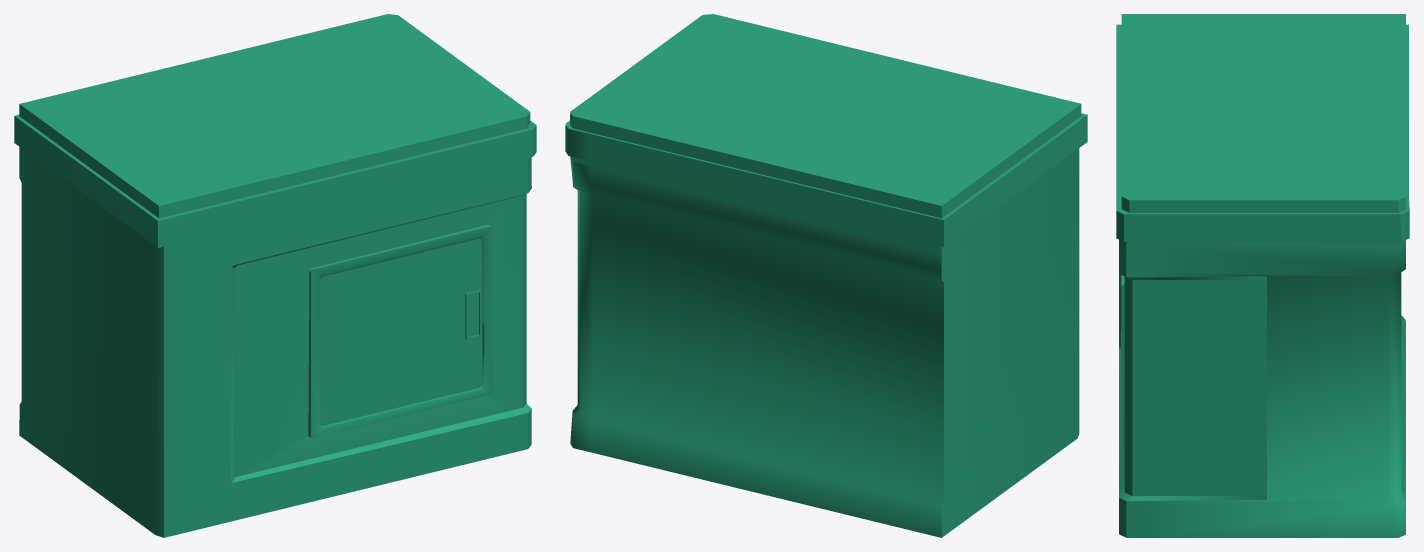
The model's file is drawer02.fbx.
3 renders of one model, left to right at view 1: azimuth 30°, elevation 25°; view 2: azimuth 150°, elevation 25°; view 3: azimuth 270°, elevation 25°, orthographic.
Visible parts, largest first — view 1: Object004; view 2: Object004; view 3: Object004.
Boxes of the visible parts, x1,y1,x2,y2 form: Object004: (14, 14, 536, 537); Object004: (565, 14, 1087, 537); Object004: (1116, 14, 1409, 537).
Size of the model in its own units: 1.79 by 1.48 by 1.17.
